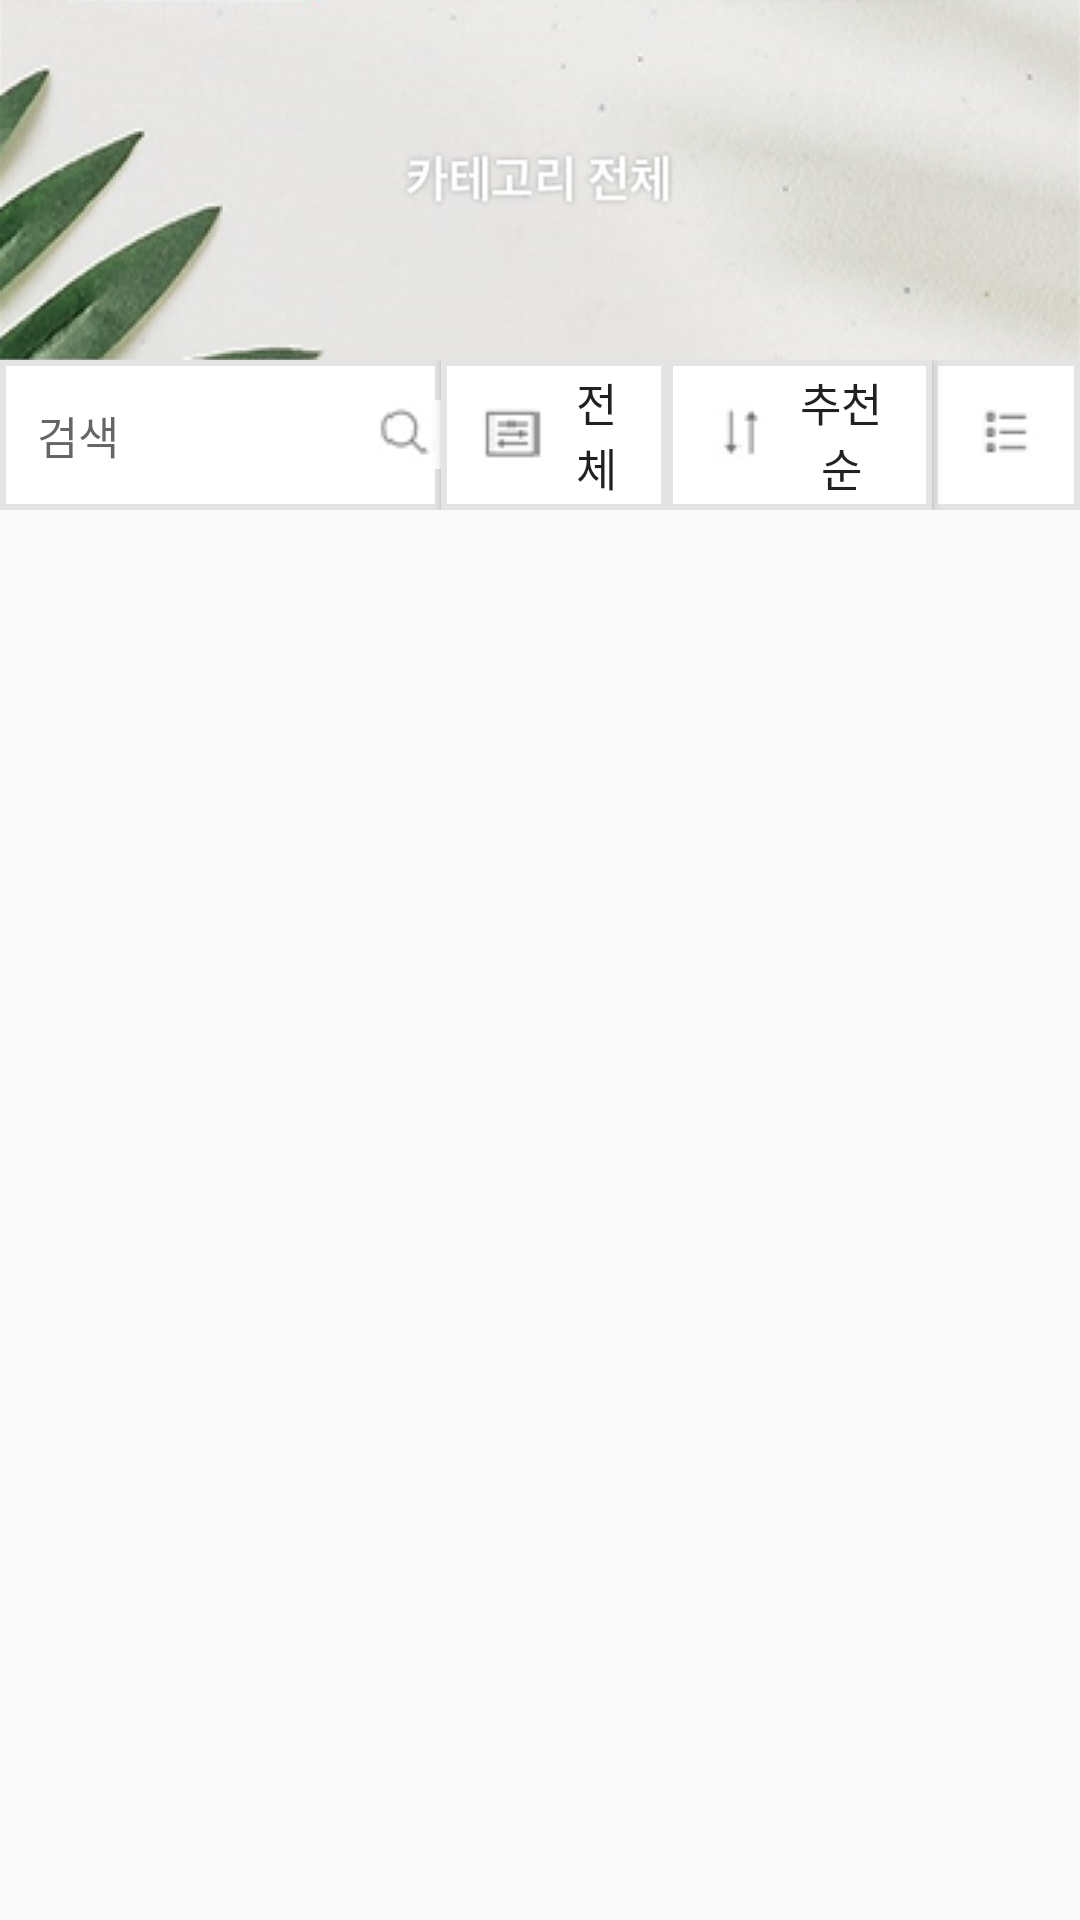

Named icons in this screenshot (1080 × 1920) and their bounding boxes, (x1, y1, x2, y2):
smalllist: (932, 365, 1074, 509)
